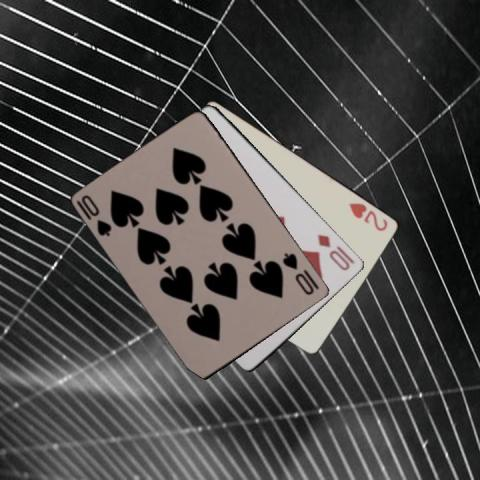10d: (315, 230, 352, 272)
10s: (279, 250, 316, 297), (79, 191, 114, 238)
2h: (346, 199, 390, 233)
